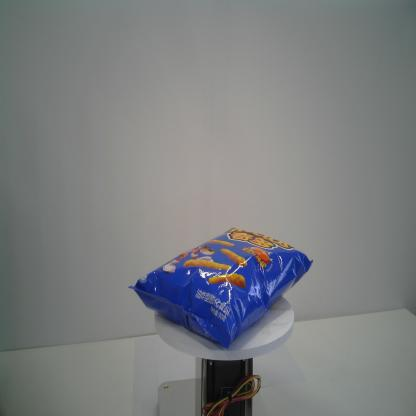Puffed Food: (128, 227, 315, 350)
